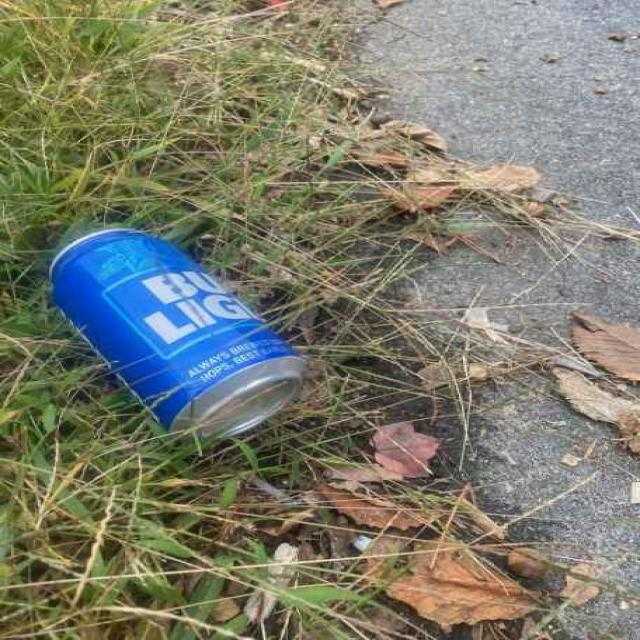Can-Metal: (37, 216, 321, 467)
